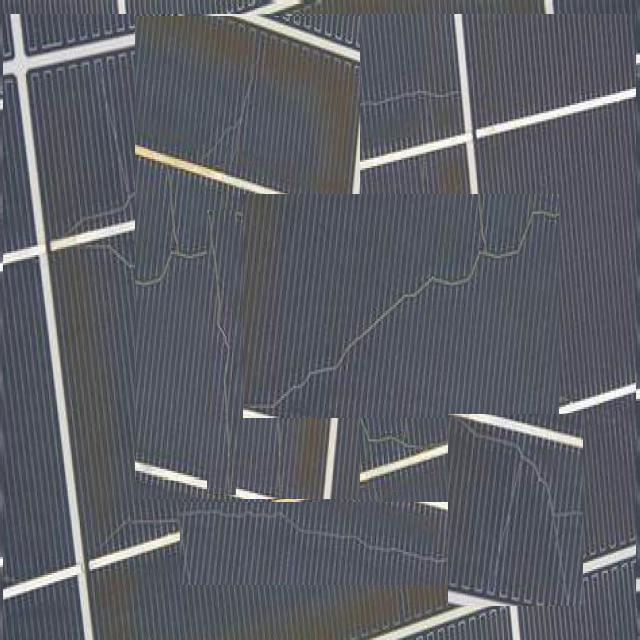Dusty: (135, 17, 360, 499)
Electrical-damage: (244, 194, 559, 418), (449, 414, 583, 605), (181, 503, 476, 585), (208, 210, 236, 495)
